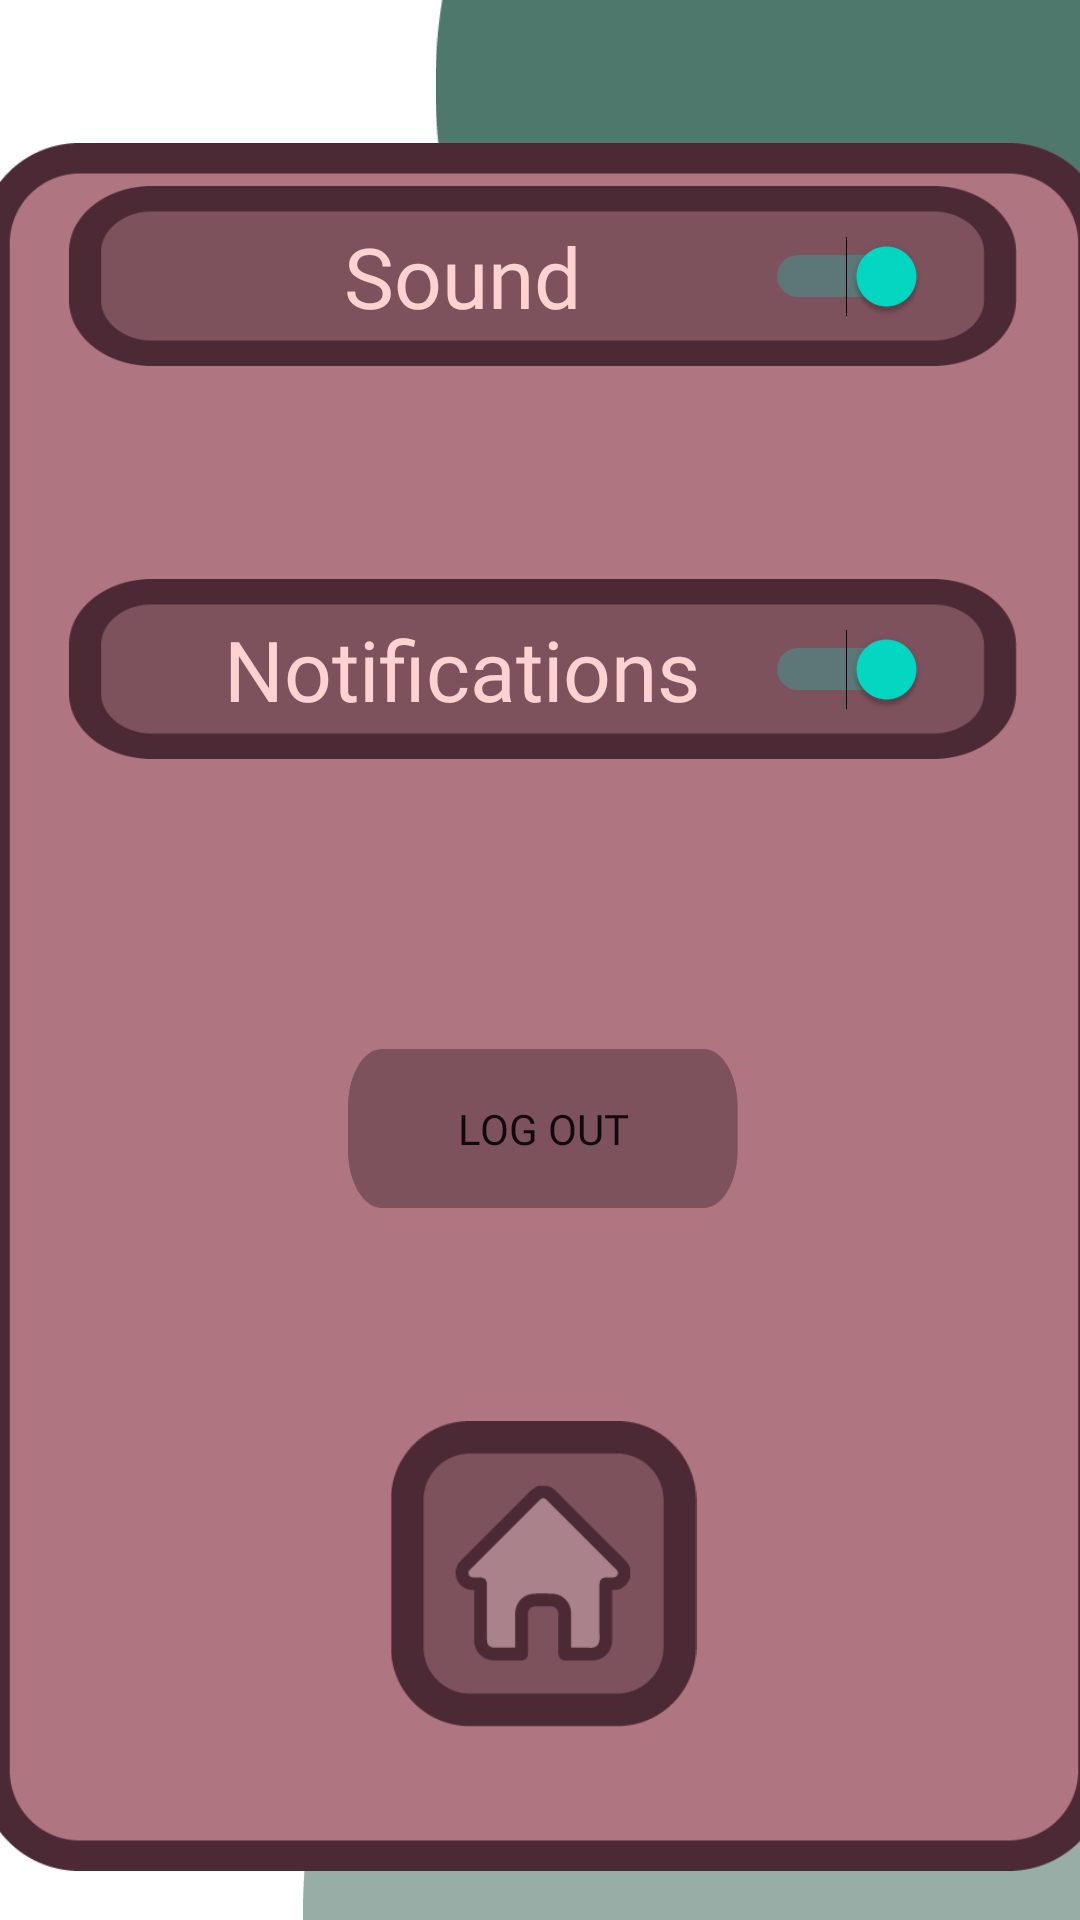

Screen size 1080w x 1920h. Icon name, then its box in pixels as Rect(x1, y1, x2, y2):
options home: Rect(391, 1421, 697, 1727)
